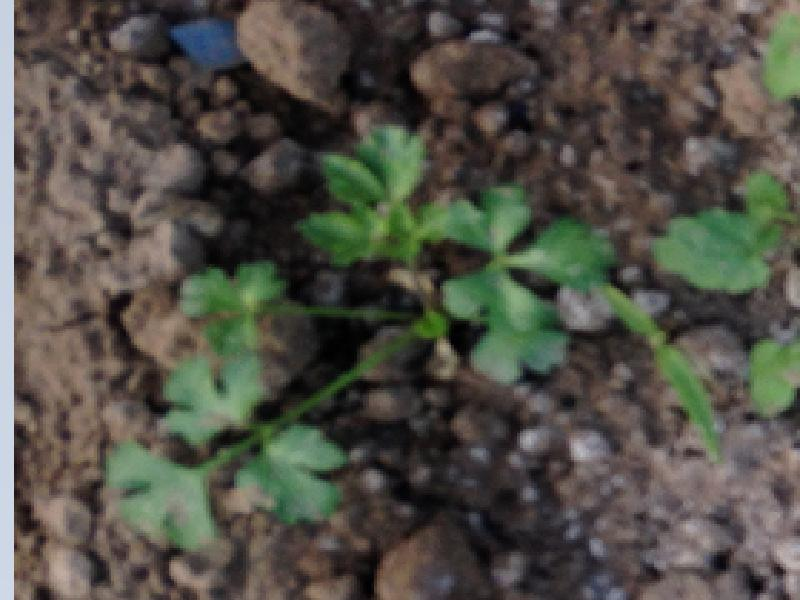radish: (181, 19, 778, 596)
